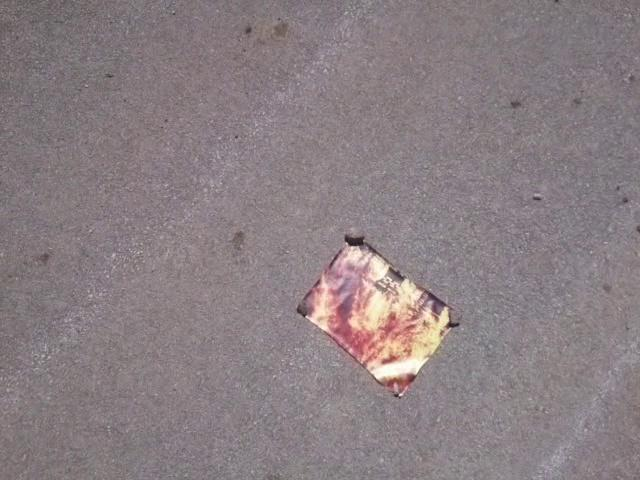fire-poster: (294, 227, 459, 400)
